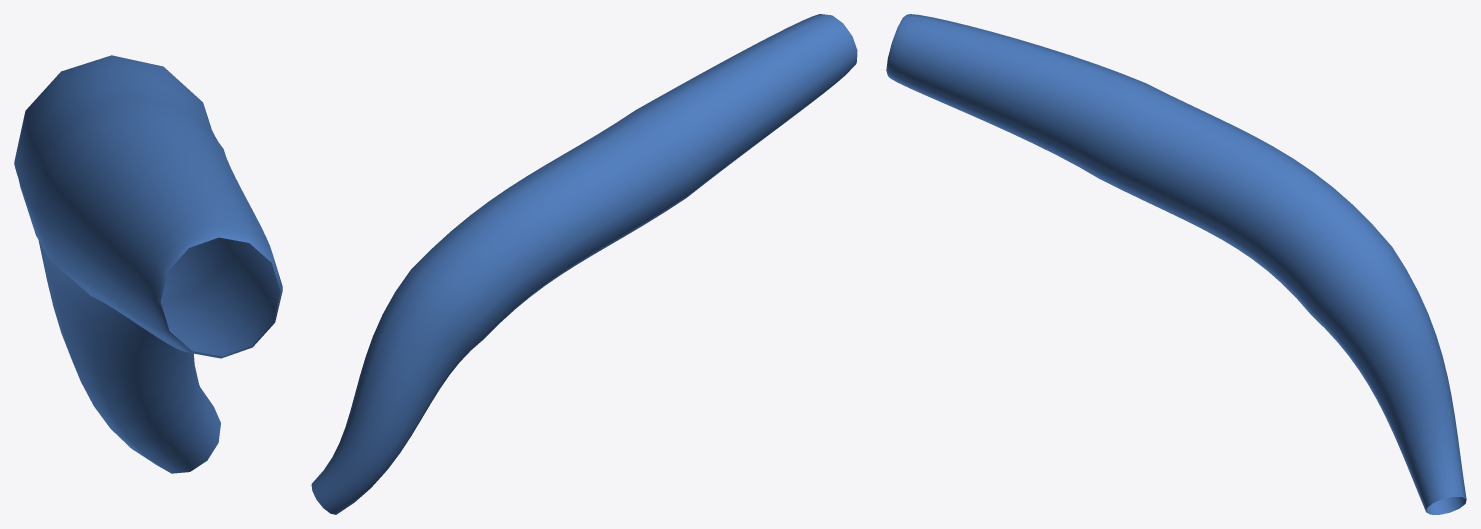
3 views of the same model, side by side, from view 1: azimuth 30°, elevation 25°; view 2: azimuth 150°, elevation 25°; view 3: azimuth 270°, elevation 25° (orthographic). The views are drawn at different scales.
Visible parts, largest first — view 1: 右侧乙状窦; view 2: 右侧乙状窦; view 3: 右侧乙状窦.
Boxes of the visible parts, box(x1,y1,x2,y2) form: 右侧乙状窦: box(14, 55, 282, 473); 右侧乙状窦: box(311, 14, 857, 514); 右侧乙状窦: box(886, 14, 1466, 514).
Size of the model in its own units: 0.0237 by 0.029 by 0.0402.
